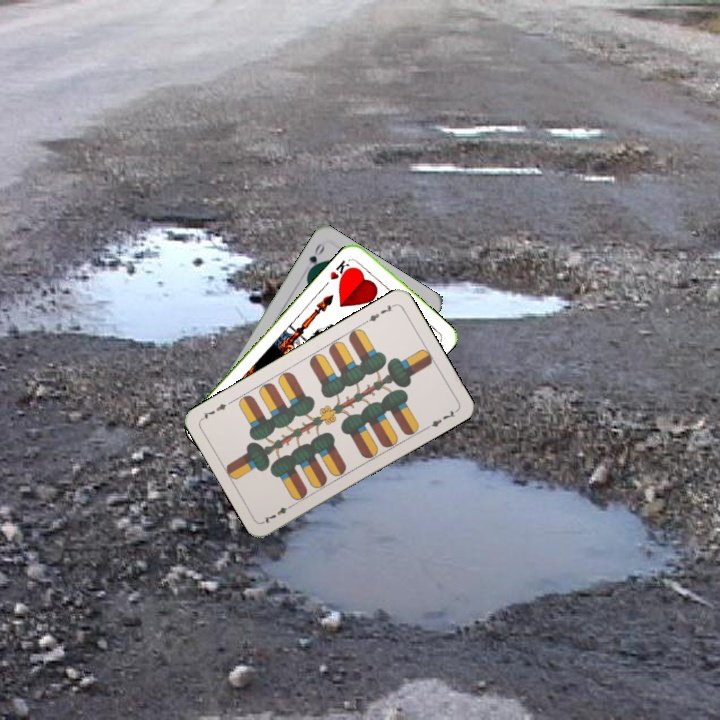E7: (361, 300, 398, 326), (259, 500, 296, 526)
GO: (303, 239, 327, 277)
HK: (326, 256, 355, 284)
